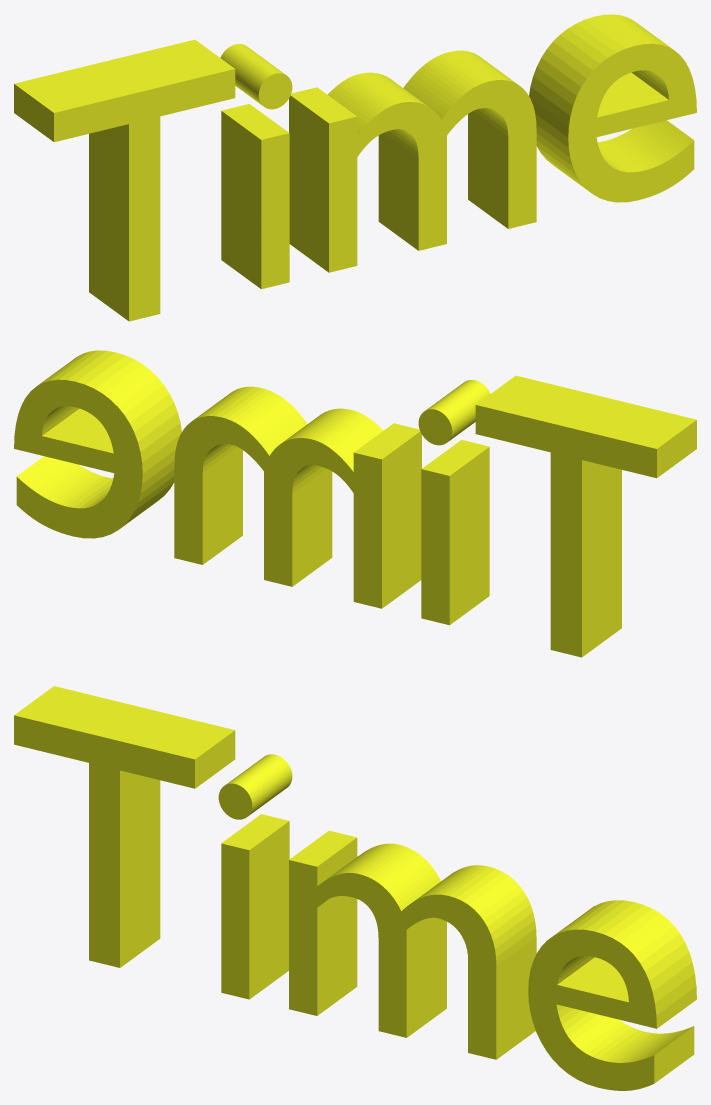
File: Time.obj
3 views of the same model, one above another, from view 1: azimuth 30°, elevation 25°; view 2: azimuth 150°, elevation 25°; view 3: azimuth 330°, elevation 25° (orthographic).
Parts seen in each view (by area): view 1: テキスト; view 2: テキスト; view 3: テキスト.
Boxes of the visible parts, box(x1,y1,x2,y2) form: テキスト: box(14, 14, 696, 321); テキスト: box(14, 350, 696, 657); テキスト: box(14, 686, 696, 1090).
Size of the model in its own units: 2.02 by 0.691 by 0.2185.
1 material, 1 textured.
